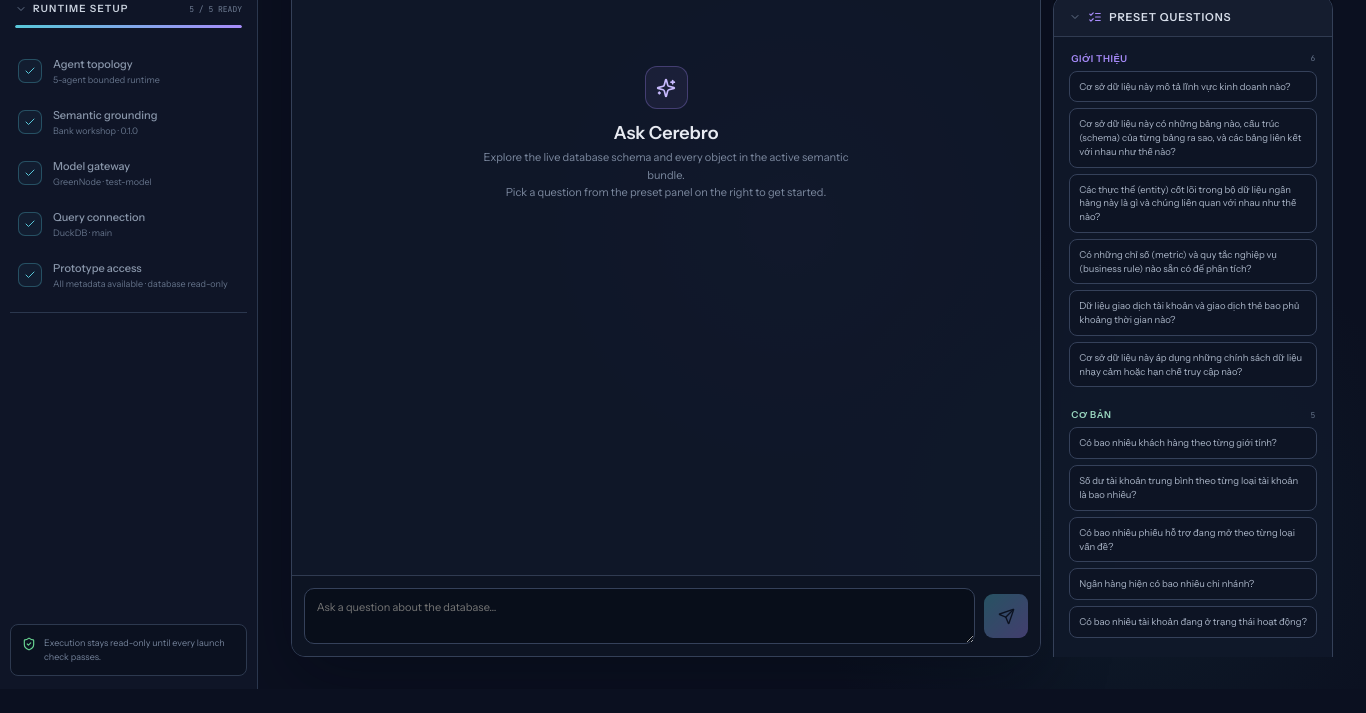
workspace navigation › clear chat also cancels the active query and cannot be repopulated
(page scrolled)
In the text box named "Ask about the database": x=640, y=616 [304,588,975,644], type "Another long-running question"
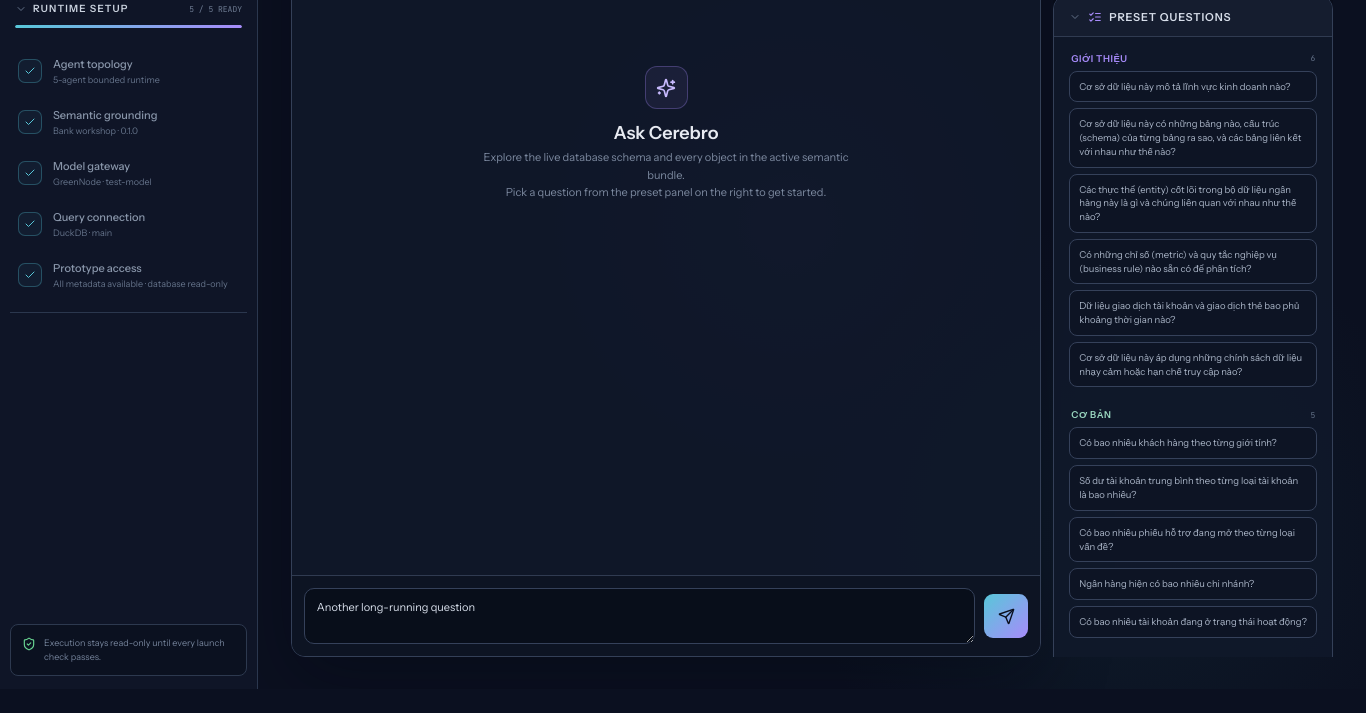
Click the button named "Send question": x=1006, y=616 [984,594,1028,638]
(page scrolled)
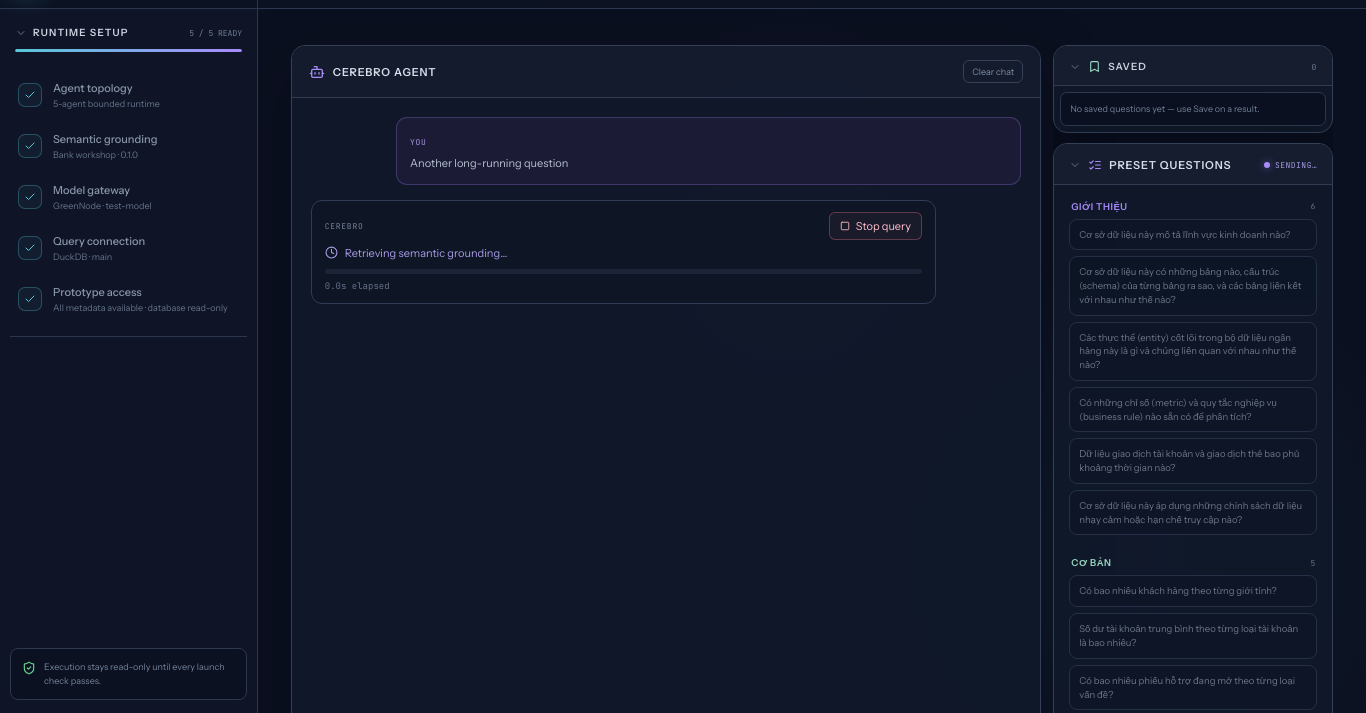
Click the button "Clear chat": x=993, y=72 [963,60,1023,83]
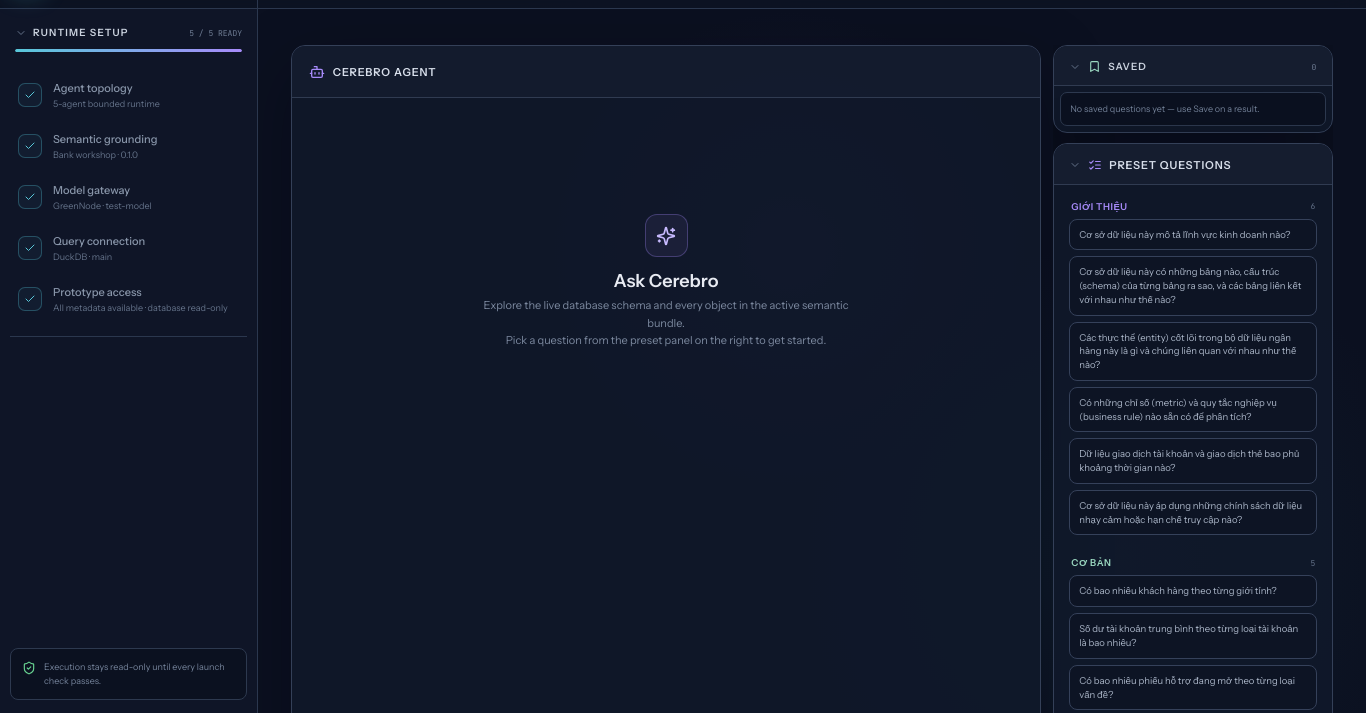
Expected: the text "Another long-running question" is gone
Expected: the heading "Ask Cerebro" is shown, [614,270,718,292]
